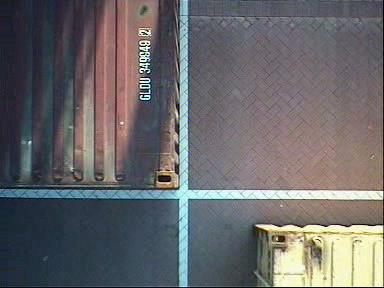groundmarker_2: (28, 146, 98, 261)
